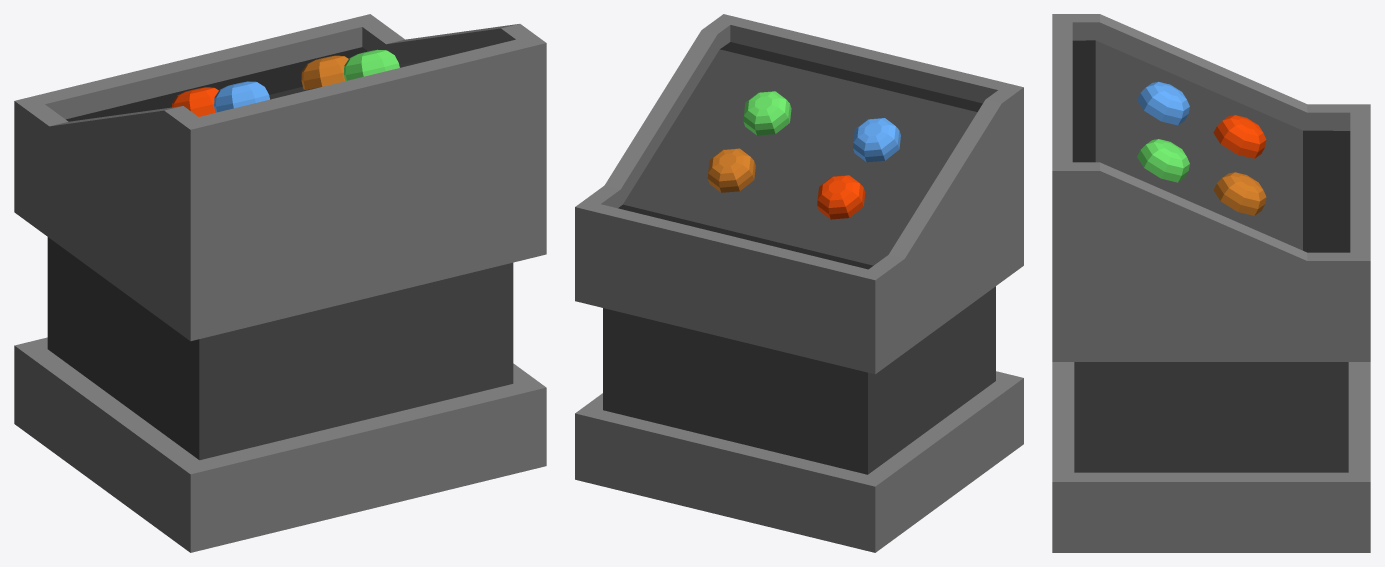
The model's file is CarWashPad.fbx.
The picture shows the model from 3 angles, left to right: view 1: azimuth 30°, elevation 25°; view 2: azimuth 150°, elevation 25°; view 3: azimuth 270°, elevation 25°; orthographic projection. The views are drawn at different scales.
Parts seen in each view (by area): view 1: CarWashPad; view 2: CarWashPad; view 3: CarWashPad.
Boxes of the visible parts, bbox=[...] form: CarWashPad: bbox=[14, 14, 546, 552]; CarWashPad: bbox=[575, 14, 1023, 552]; CarWashPad: bbox=[1052, 14, 1370, 552].
Bounding box in the file's own units: 73.95 × 83.98 × 63.36.
